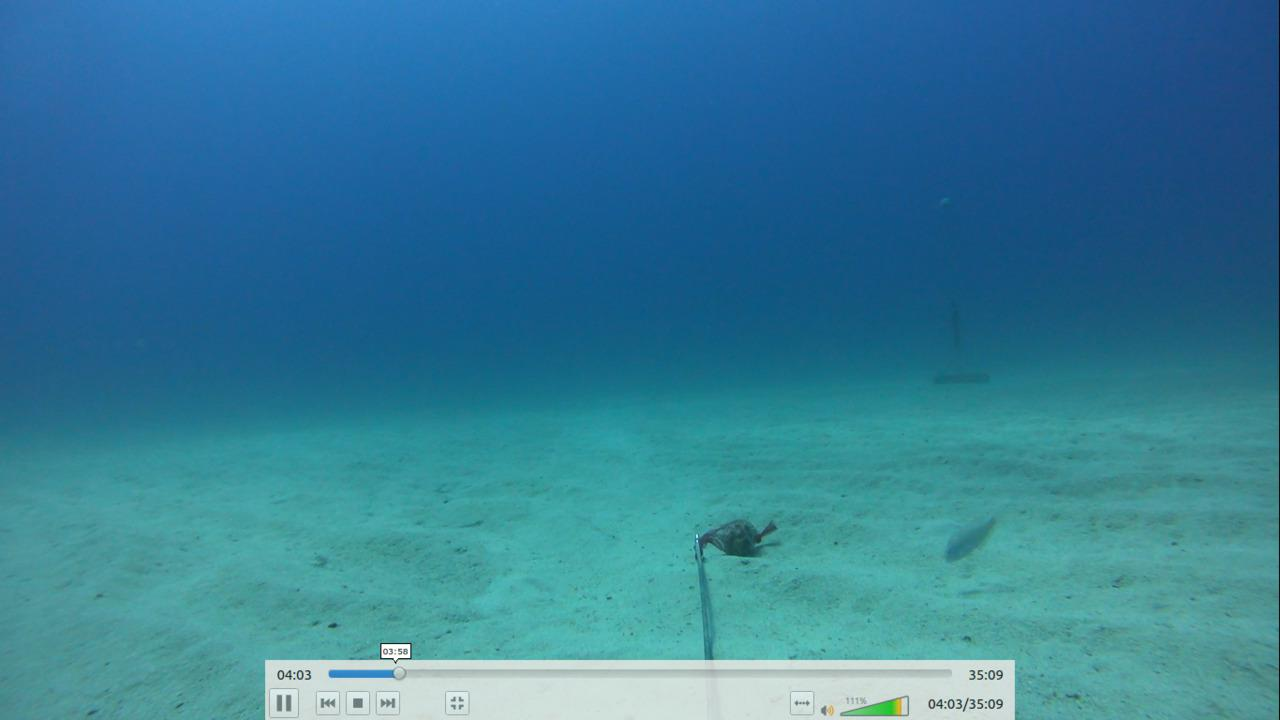raor: (936, 507, 1004, 571)
